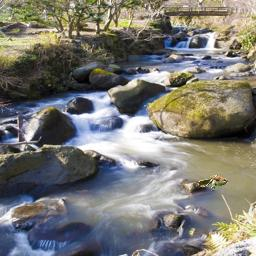Cuckoo: (197, 175, 228, 191)
